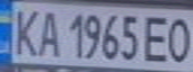1: (63, 8, 84, 59)
5: (118, 11, 145, 62)
6: (100, 10, 124, 61)
9: (81, 10, 103, 60)
A: (33, 6, 63, 57)
E: (139, 12, 175, 63)
K: (6, 5, 42, 57)
O: (163, 13, 193, 64)
